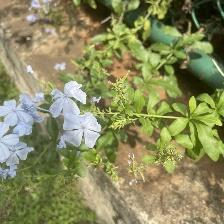chitrak: (61, 109, 107, 152), (48, 82, 89, 119)
